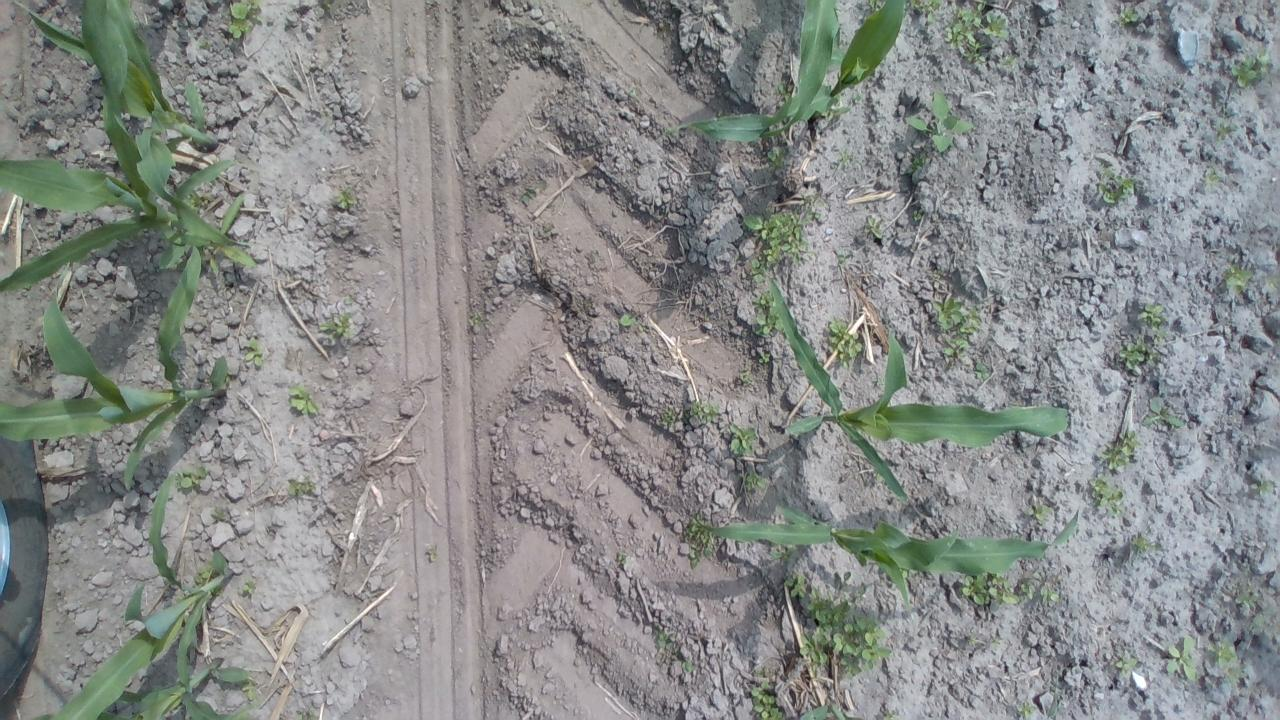Maize: (0, 0, 261, 296), (766, 276, 1070, 500), (0, 245, 229, 493), (48, 470, 236, 720), (692, 506, 1081, 607), (662, 1, 907, 142), (13, 0, 224, 152), (38, 657, 258, 720), (800, 702, 860, 720)
Weeds: (784, 568, 894, 681), (906, 86, 974, 152), (942, 1, 1009, 62), (742, 208, 811, 265), (928, 294, 979, 368), (1118, 328, 1168, 371), (825, 317, 863, 372), (958, 573, 1018, 607), (1094, 163, 1136, 205), (684, 513, 716, 566), (1088, 472, 1123, 519), (224, 0, 264, 41), (1233, 48, 1271, 90), (1100, 431, 1138, 472), (1166, 632, 1198, 680), (750, 291, 783, 336), (1141, 399, 1186, 428), (1206, 632, 1240, 670), (751, 682, 784, 720), (316, 312, 354, 344), (287, 384, 321, 417), (728, 424, 756, 456), (286, 476, 320, 501), (738, 466, 768, 494), (909, 0, 942, 25), (1224, 262, 1254, 288), (652, 623, 678, 651), (690, 399, 721, 422), (860, 214, 886, 241), (247, 337, 266, 371), (179, 466, 209, 487), (1137, 303, 1165, 325), (748, 256, 768, 286), (1128, 536, 1158, 556), (1048, 671, 1060, 720), (796, 188, 824, 208), (768, 544, 799, 562), (332, 184, 354, 209), (767, 147, 788, 173), (1116, 652, 1140, 674), (1214, 121, 1236, 144), (1248, 478, 1271, 500), (1204, 166, 1222, 194), (1118, 6, 1142, 26), (206, 506, 228, 526), (1234, 590, 1258, 608), (187, 194, 214, 210), (1028, 504, 1056, 519), (1040, 583, 1060, 604), (1018, 694, 1033, 720), (1019, 580, 1038, 600), (241, 580, 259, 600), (834, 252, 855, 269), (662, 405, 677, 428), (197, 564, 214, 584), (242, 680, 258, 701), (1000, 53, 1019, 70), (522, 189, 538, 209), (974, 361, 990, 381), (739, 369, 754, 389), (426, 546, 441, 566), (988, 633, 1005, 650), (619, 312, 635, 330), (614, 550, 630, 568), (907, 156, 923, 173), (679, 658, 697, 673), (584, 248, 598, 266), (295, 710, 318, 720), (756, 351, 771, 366), (1264, 274, 1278, 290), (752, 664, 767, 678), (882, 707, 898, 720), (850, 92, 864, 106), (967, 630, 978, 647), (469, 314, 482, 328), (809, 210, 823, 221), (628, 88, 640, 100), (910, 209, 924, 219), (840, 150, 851, 162), (932, 267, 943, 279), (197, 38, 210, 48), (542, 222, 552, 234), (1034, 570, 1044, 582), (344, 293, 354, 305), (320, 109, 330, 119), (322, 0, 333, 8), (778, 82, 785, 94), (217, 589, 226, 596)
